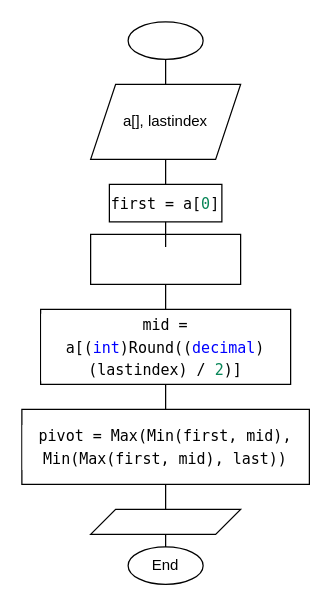
Some shapes in this 331 by 606 pixel diagram are drawn without their labels. Here are the shapes that lost their labels. From the top down, the centre of each, then its label:
the point at 165,40: Start
the point at 165,258: last = a[lastindex]
the point at 165,521: pivot
